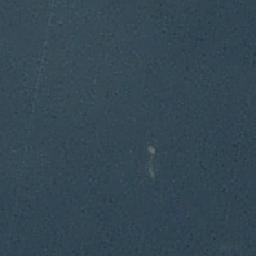debris: (147, 143, 157, 180)
